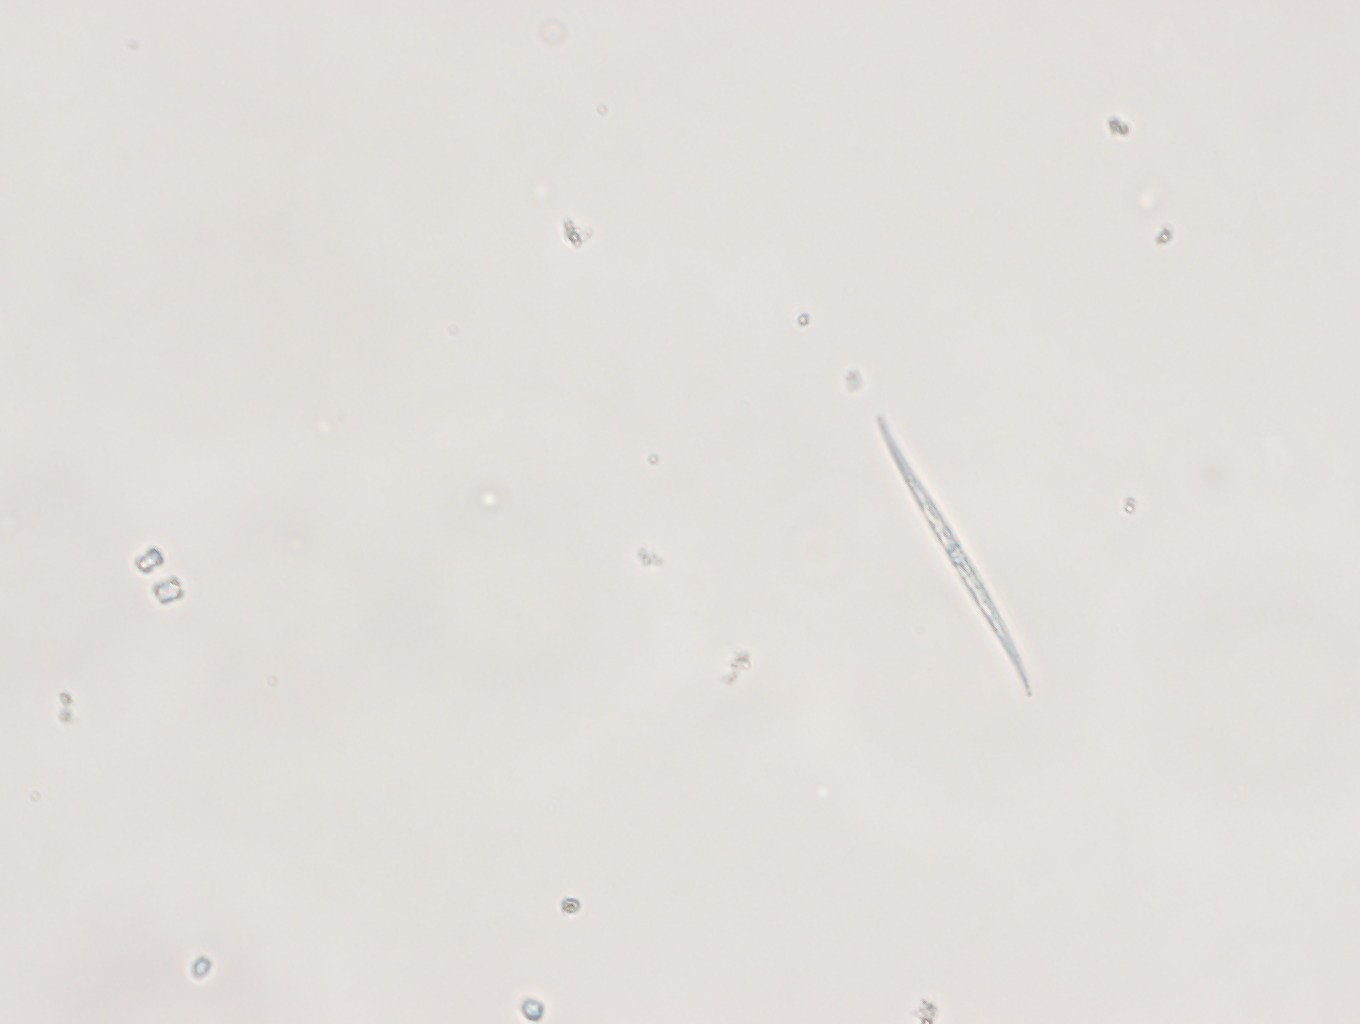pleurosigma pelagicum: (878, 410, 1036, 710)
skeletonema: (125, 546, 184, 608)
